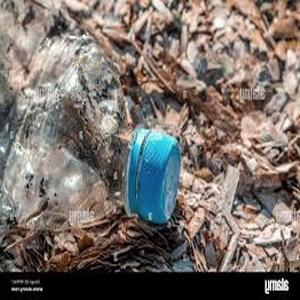Plastic: (0, 0, 183, 229)
